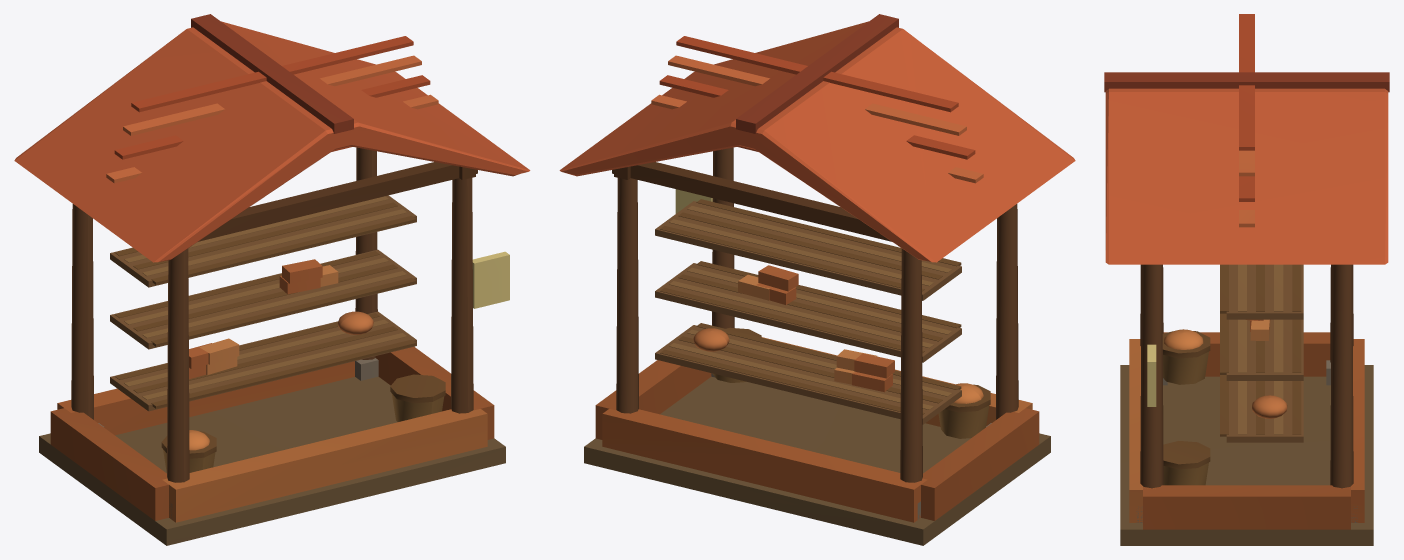
Rendered from clay-storage-half.glb.
The picture shows the model from 3 angles, left to right: view 1: azimuth 30°, elevation 25°; view 2: azimuth 150°, elevation 25°; view 3: azimuth 270°, elevation 25°; orthographic projection.
Parts seen in each view (by area): view 1: drying-roof, yard-deck, dwarf-wall-front, dwarf-wall-left, beam-front, slat-shelf-1, post-3, dwarf-wall-back, post-2, slat-shelf-0, post-0, slat-shelf-2 (+27 smaller); view 2: drying-roof, yard-deck, dwarf-wall-back, slat-shelf-2, slat-shelf-1, dwarf-wall-left, slat-shelf-0, beam-back, post-1, post-0, post-2, roof-ridge (+26 smaller); view 3: drying-roof, yard-deck, dwarf-wall-right, post-1, roof-ridge, post-3, slat-shelf-2, slat-shelf-1, slat-shelf-0, dwarf-wall-back, dwarf-wall-front, roof-tile-row-4 (+24 smaller).
Boxes of the visible parts, bbox=[...] form: drying-roof: bbox=[14, 21, 530, 262]; yard-deck: bbox=[39, 376, 505, 545]; dwarf-wall-front: bbox=[162, 409, 487, 522]; dwarf-wall-left: bbox=[50, 408, 168, 520]; beam-front: bbox=[198, 162, 477, 241]; slat-shelf-1: bbox=[110, 249, 416, 349]; post-3: bbox=[451, 178, 473, 413]; dwarf-wall-back: bbox=[57, 361, 354, 435]; post-2: bbox=[167, 248, 189, 482]; slat-shelf-0: bbox=[110, 311, 416, 411]; post-0: bbox=[71, 204, 93, 419]; slat-shelf-2: bbox=[110, 195, 416, 287]; drying-roof: bbox=[559, 21, 1075, 262]; yard-deck: bbox=[584, 376, 1050, 545]; dwarf-wall-back: bbox=[602, 409, 927, 522]; slat-shelf-2: bbox=[655, 201, 961, 300]; slat-shelf-1: bbox=[655, 263, 961, 362]; dwarf-wall-left: bbox=[921, 408, 1039, 520]; slat-shelf-0: bbox=[655, 325, 961, 424]; beam-back: bbox=[612, 162, 891, 241]; post-1: bbox=[616, 178, 638, 413]; post-0: bbox=[900, 248, 922, 482]; post-2: bbox=[996, 204, 1018, 419]; roof-ridge: bbox=[736, 14, 898, 133]; drying-roof: bbox=[1105, 88, 1388, 264]; yard-deck: bbox=[1120, 365, 1373, 545]; dwarf-wall-right: bbox=[1143, 485, 1350, 529]; post-1: bbox=[1330, 264, 1353, 488]; roof-ridge: bbox=[1104, 72, 1389, 92]; post-3: bbox=[1140, 264, 1163, 488]; slat-shelf-2: bbox=[1226, 264, 1303, 319]; slat-shelf-1: bbox=[1226, 319, 1303, 380]; slat-shelf-0: bbox=[1226, 381, 1303, 442]; dwarf-wall-back: bbox=[1339, 339, 1364, 522]; dwarf-wall-front: bbox=[1129, 339, 1155, 522]; roof-tile-row-4: bbox=[1239, 14, 1254, 150].
Bounding box in the file's own units: 1.91 × 1.88 × 1.26.
